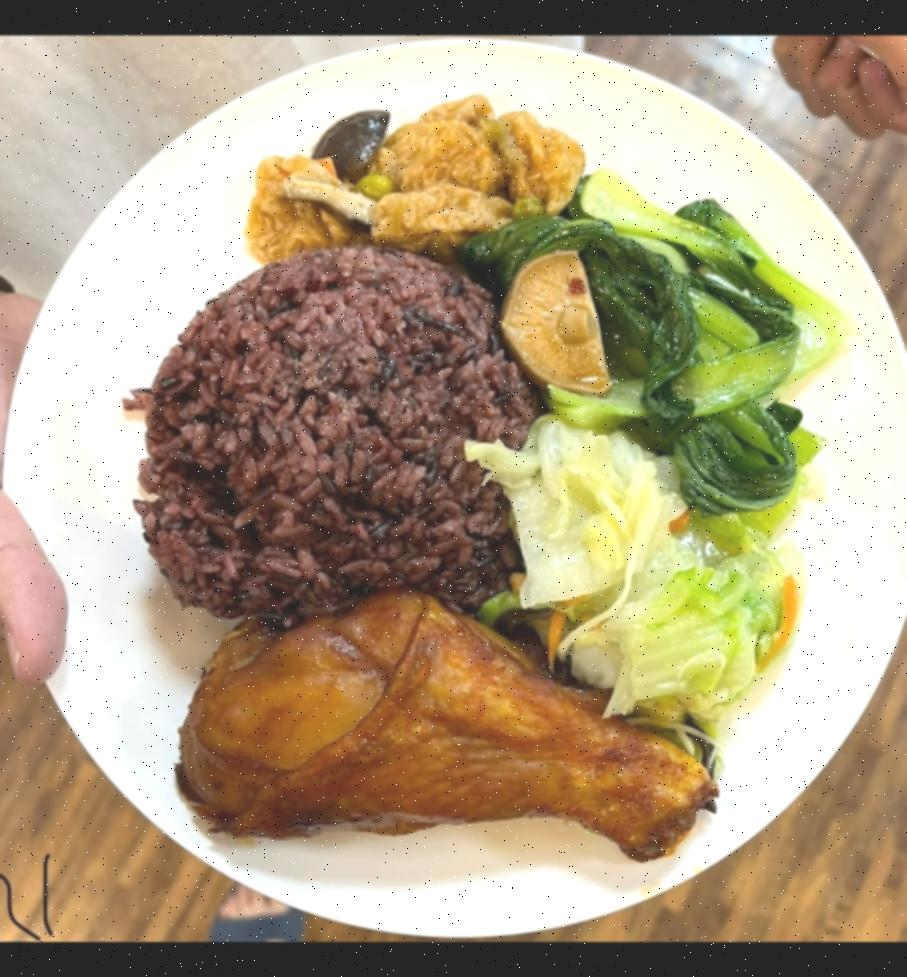big fried chicken leg: (0, 35, 907, 942)
braised fish: (134, 234, 530, 618)
braised fish fillet: (483, 178, 862, 518), (480, 416, 826, 718), (241, 97, 584, 266)
braised pork: (169, 594, 714, 892)
